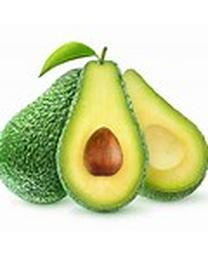avocado: (55, 57, 149, 214), (2, 67, 96, 206), (112, 68, 207, 202)
